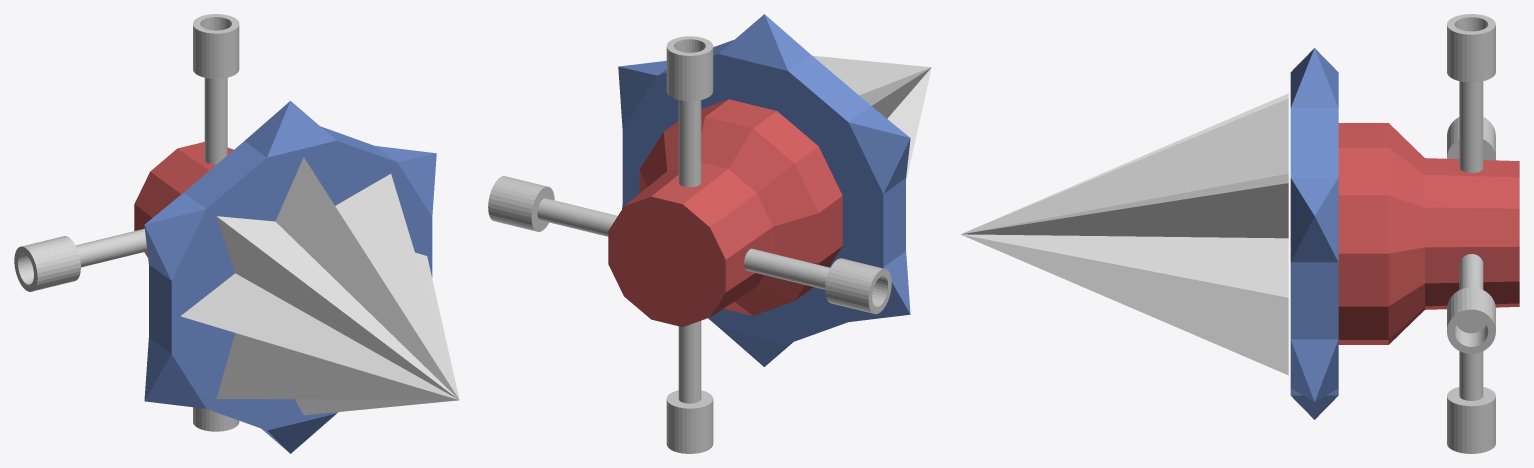
Rendered from turret.dae.
3 renders of one model, left to right at view 1: azimuth 30°, elevation 25°; view 2: azimuth 150°, elevation 25°; view 3: azimuth 270°, elevation 25°, orthographic. The views are drawn at different scales.
Visible parts, largest first — view 1: turret, turret-geneartor; view 2: turret, turret-geneartor; view 3: turret, turret-geneartor.
Part boxes in pixels (bbox=[...]): turret: bbox=[14, 14, 436, 453]; turret-geneartor: bbox=[181, 157, 459, 415]; turret: bbox=[488, 14, 910, 453]; turret-geneartor: bbox=[812, 55, 931, 181]; turret: bbox=[1290, 14, 1519, 453]; turret-geneartor: bbox=[960, 93, 1288, 375].
Size of the model in its own units: 2.82 by 3.41 by 2.82.
